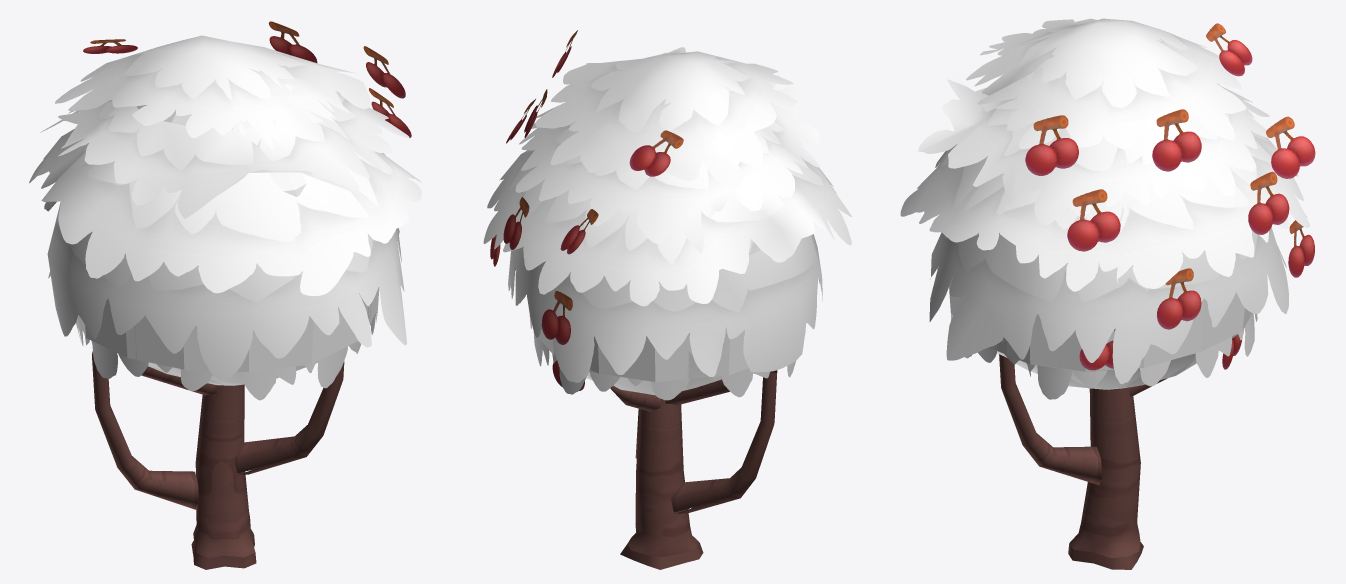
The model's file is CherryTree.fbx.
3 renders of one model, left to right at view 1: azimuth 30°, elevation 25°; view 2: azimuth 150°, elevation 25°; view 3: azimuth 270°, elevation 25°, orthographic. The views are drawn at different scales.
Visible parts, largest first — view 1: TreeFruitCrown2b, TreeFruitCrown1b, TreeFruitTrunkSmallB, FruitTreeBranch, FruitTreeBranch (1), FruitCherry1 (5), FruitCherry1 (6), TreeFruitStumpSmallB, FruitCherry1 (2), FruitCherry1 (7); view 2: TreeFruitCrown2b, TreeFruitTrunkSmallB, TreeFruitCrown1b, FruitTreeBranch, FruitCherry1 (7), FruitCherry1 (4), TreeFruitStumpSmallB, FruitCherry1 (1), FruitCherry1 (3); view 3: TreeFruitCrown2b, TreeFruitCrown1b, TreeFruitTrunkSmallB, FruitTreeBranch (1), FruitCherry1 (2), FruitCherry1 (6), FruitCherry1 (5), FruitCherry1 (3), FruitCherry1, FruitCherry1 (1), FruitCherry1 (7), FruitCherry1 (4) (+1 smaller).
Boxes of the visible parts, bbox=[...] form: TreeFruitCrown2b: bbox=[29, 35, 421, 380]; TreeFruitCrown1b: bbox=[76, 105, 379, 400]; TreeFruitTrunkSmallB: bbox=[141, 366, 255, 557]; FruitTreeBranch: bbox=[92, 351, 198, 509]; FruitTreeBranch (1): bbox=[234, 361, 344, 474]; FruitCherry1 (5): bbox=[268, 21, 317, 62]; FruitCherry1 (6): bbox=[363, 46, 405, 98]; TreeFruitStumpSmallB: bbox=[191, 535, 256, 569]; FruitCherry1 (2): bbox=[369, 88, 411, 137]; FruitCherry1 (7): bbox=[83, 39, 137, 53]; TreeFruitCrown2b: bbox=[483, 47, 851, 382]; TreeFruitTrunkSmallB: bbox=[610, 379, 729, 556]; TreeFruitCrown1b: bbox=[529, 239, 795, 400]; FruitTreeBranch: bbox=[670, 370, 777, 513]; FruitCherry1 (7): bbox=[629, 130, 683, 176]; FruitCherry1 (4): bbox=[541, 291, 572, 344]; TreeFruitStumpSmallB: bbox=[620, 543, 703, 569]; FruitCherry1 (1): bbox=[503, 197, 529, 249]; FruitCherry1 (3): bbox=[560, 209, 598, 254]; TreeFruitCrown2b: bbox=[900, 18, 1309, 384]; TreeFruitCrown1b: bbox=[949, 186, 1257, 399]; TreeFruitTrunkSmallB: bbox=[1069, 378, 1167, 558]; FruitTreeBranch (1): bbox=[999, 354, 1102, 484]; FruitCherry1 (2): bbox=[1067, 189, 1120, 251]; FruitCherry1 (6): bbox=[1025, 115, 1078, 175]; FruitCherry1 (5): bbox=[1152, 109, 1201, 171]; FruitCherry1 (3): bbox=[1266, 116, 1315, 178]; FruitCherry1: bbox=[1157, 268, 1201, 329]; FruitCherry1 (1): bbox=[1248, 171, 1289, 234]; FruitCherry1 (7): bbox=[1206, 23, 1252, 76]; FruitCherry1 (4): bbox=[1288, 216, 1314, 277].
Size of what is drawn, in the model's own units: 4.35 by 5.7 by 4.42.
